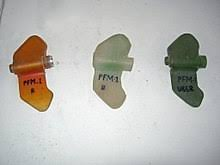butterfly: (88, 26, 140, 116), (7, 31, 60, 114), (163, 29, 209, 113)
